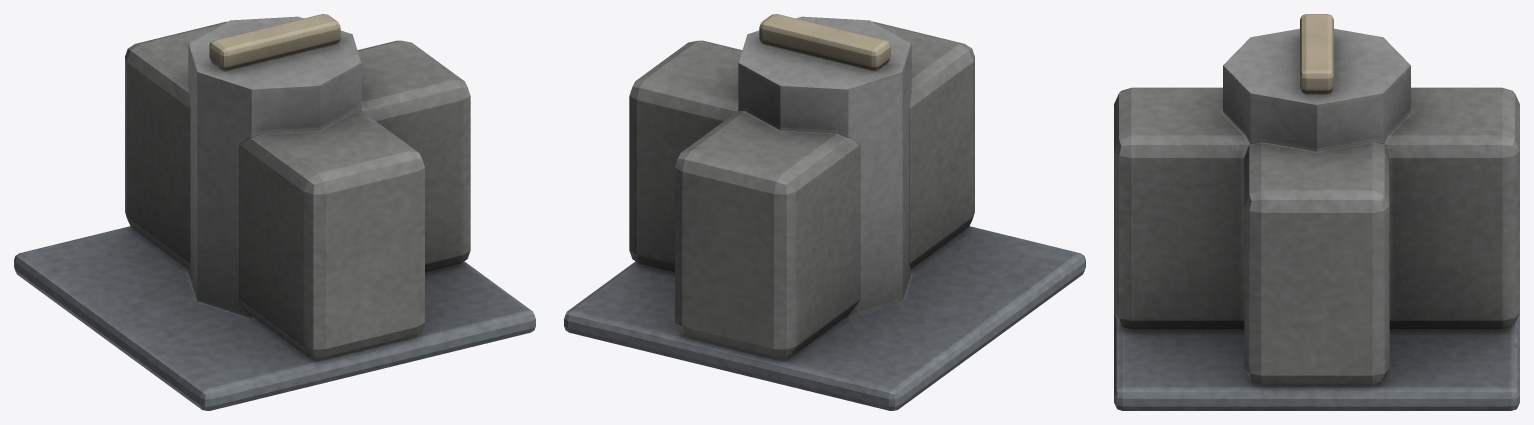
File: com_wall_tee.glb
The picture shows the model from 3 angles, left to right: view 1: azimuth 30°, elevation 25°; view 2: azimuth 150°, elevation 25°; view 3: azimuth 270°, elevation 25°; orthographic projection. The views are drawn at different scales.
Parts seen in each view (by area): view 1: com_wall_tee; view 2: com_wall_tee; view 3: com_wall_tee.
Boxes of the visible parts, x1,y1,x2,y2 form: com_wall_tee: [14, 14, 535, 410]; com_wall_tee: [564, 14, 1085, 410]; com_wall_tee: [1114, 14, 1519, 410].
Size of the model in its own units: 0.95 by 0.74 by 0.95.
1 material, 1 textured.
